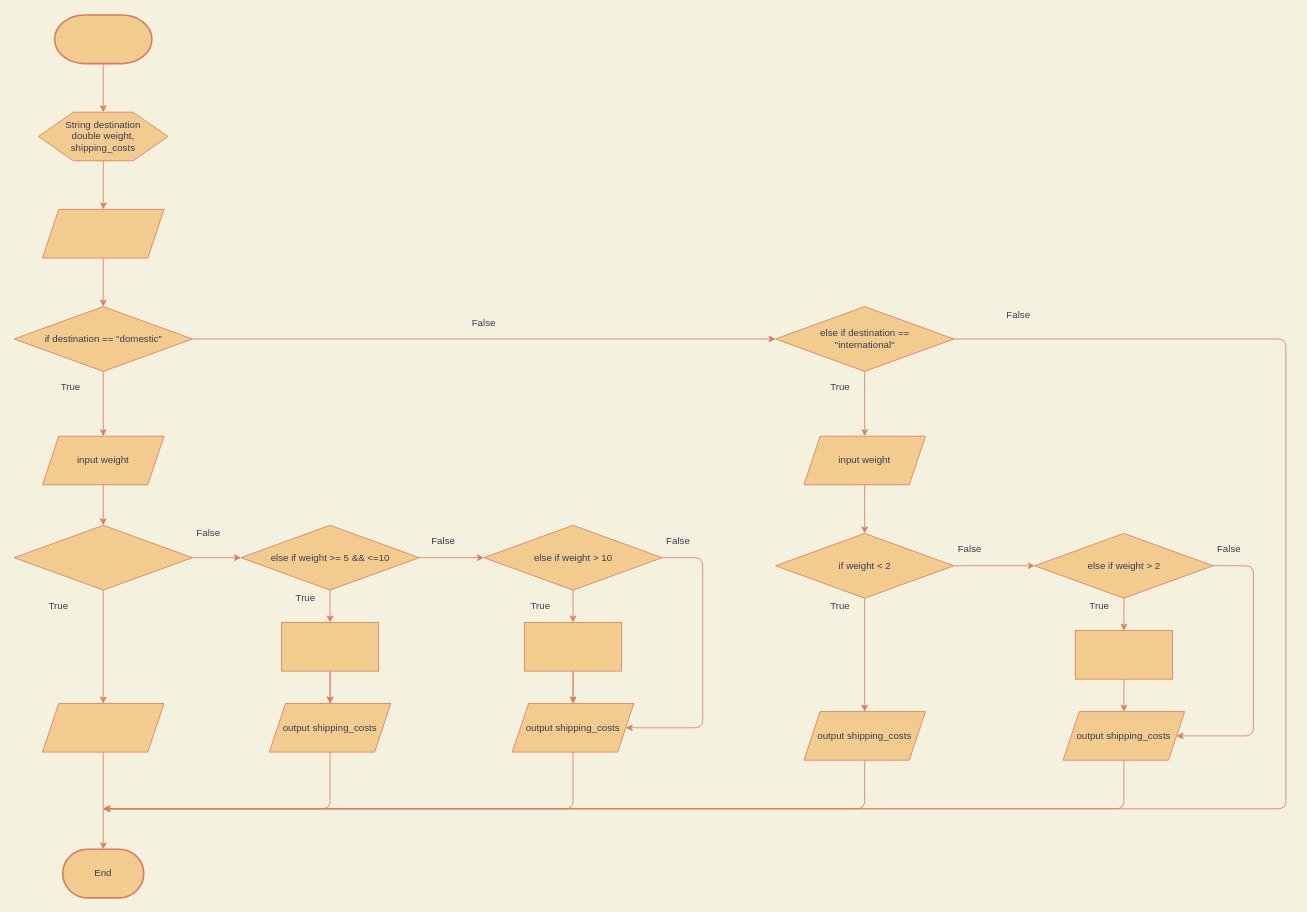
The diagram is 1307 pixels wide and 912 high, and some of its shapes have lost their labels. Here are the shapes that lost their labels. From the top down, the centre of each, then its label:
At point 102,39: "Start".
At point 103,233: "input destination".
At point 102,557: "if weight < 5".
At point 330,646: "shipping_costs += 165000".
At point 573,646: "shipping_costs += 375000".
At point 1123,654: "shipping_costs += 500000".
At point 103,727: "shipping_costs".
